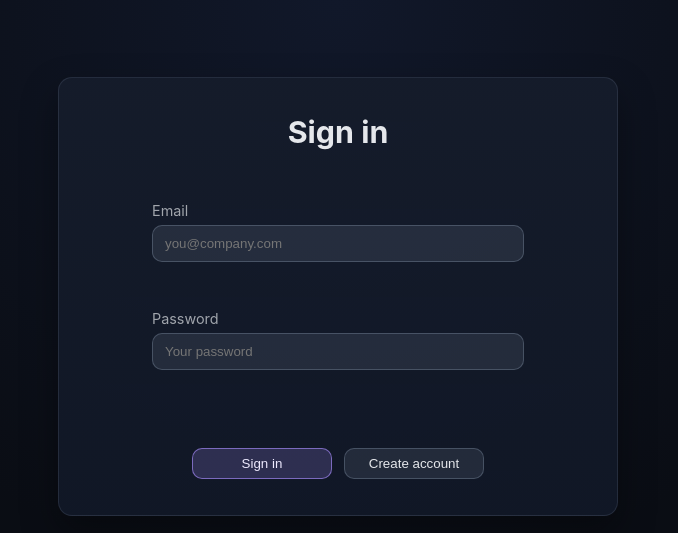
Test: Login › maps API errors to user-friendly form messages
The width and height of the screenshot is (678, 533).
Type "user@example.com" into the field labelled "Email". click: (338, 244)
box: [152, 225, 524, 262]
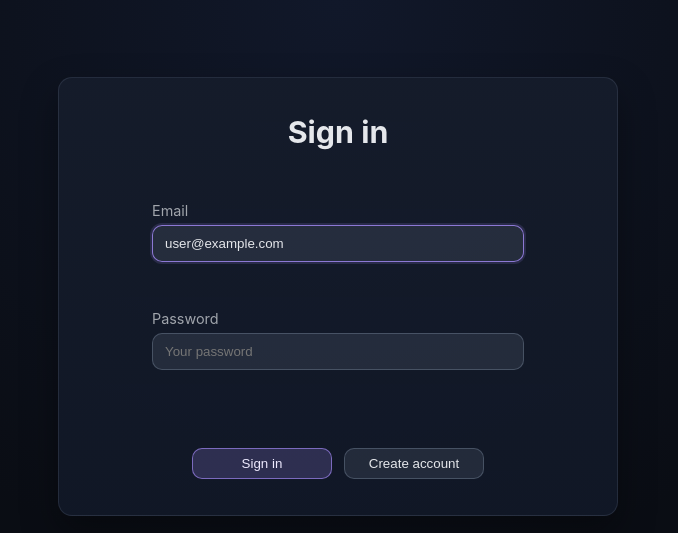
Type "wrong" into the password field labelled "Password". click: (338, 352)
box: [152, 333, 524, 370]
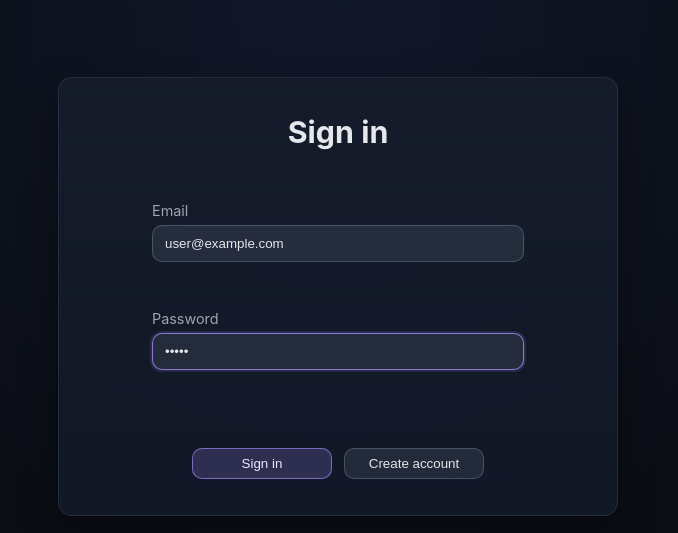
Click the button "Sign in". click: (262, 464)
box: [192, 448, 332, 479]
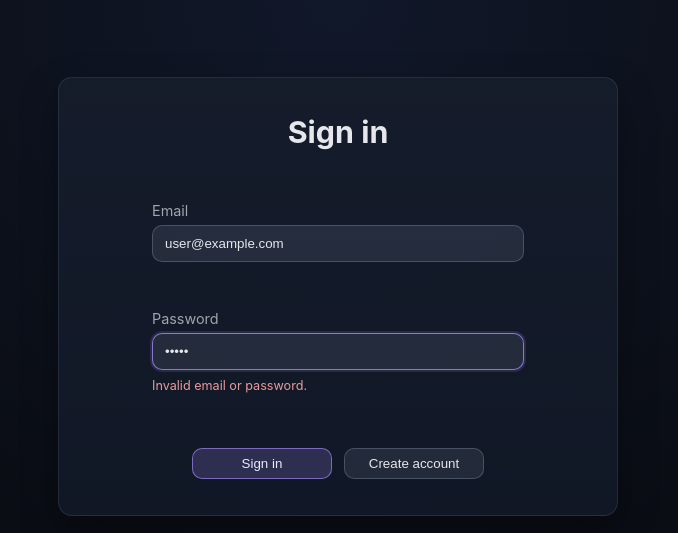
Check: the text "Invalid email or password." is shown, box [152, 378, 307, 393]
